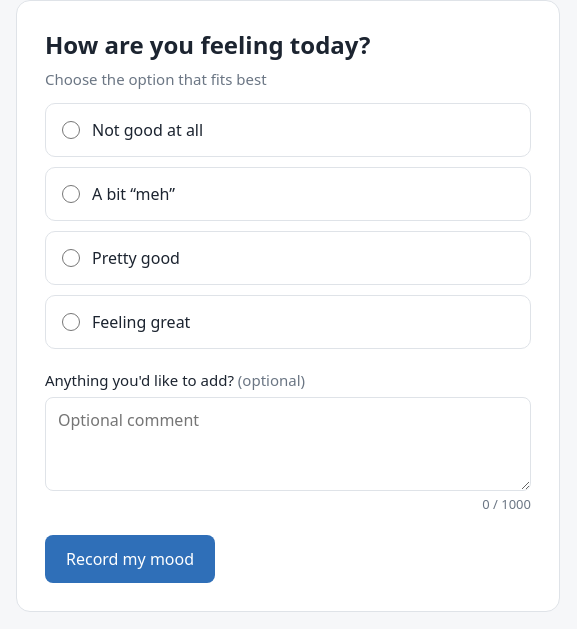
Test: MoodTrackerComponent › shows the error message from the API when a mood was already recorded today
Click the radio button with class "option__input" showing "Not good at all" at (71, 130), box [62,121,80,139]
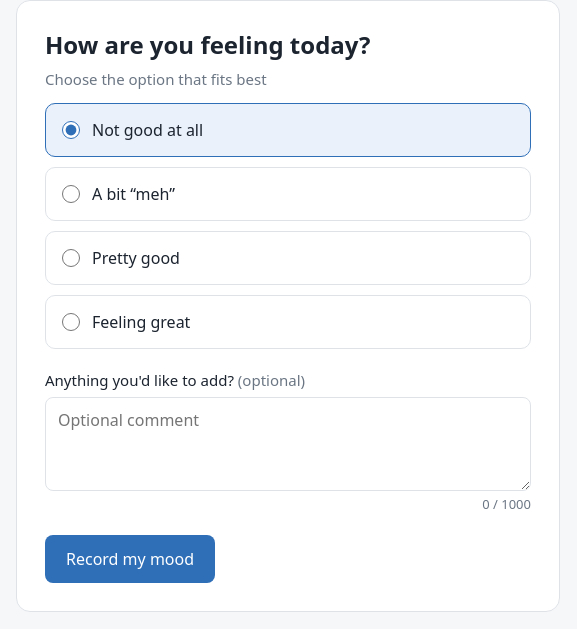
Submit the form
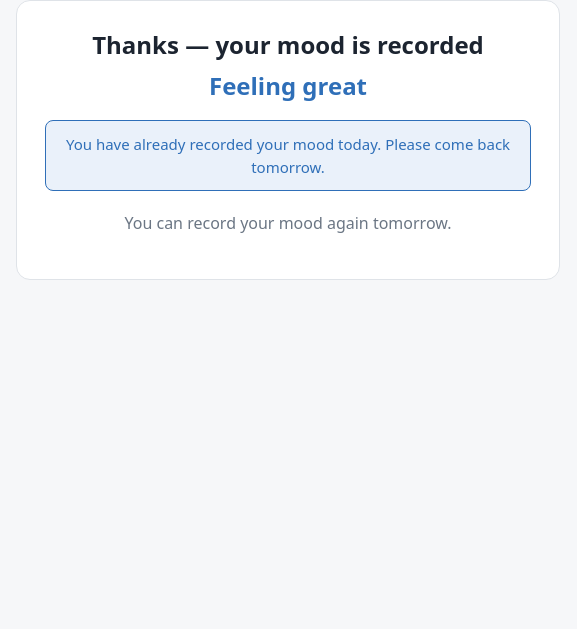
Check: the text "Feeling great" is shown, box [209,69,367,102]
Check: the text "already recorded your mood today" is shown, box [66,134,510,177]
